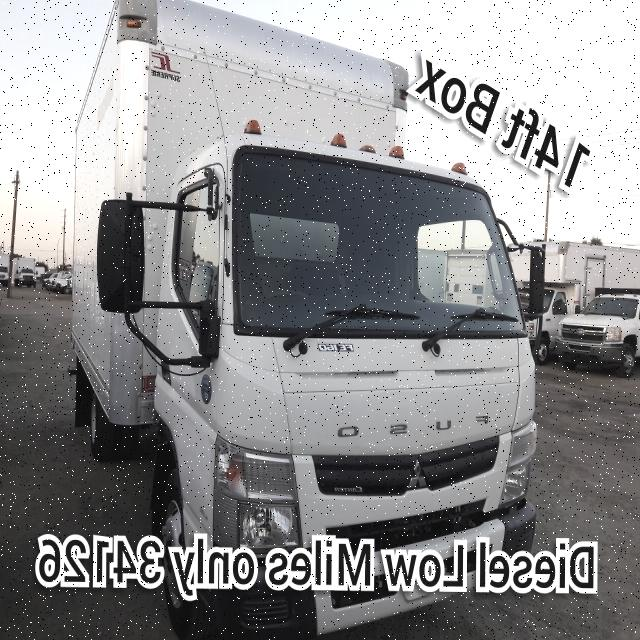truck: (75, 0, 538, 639)
